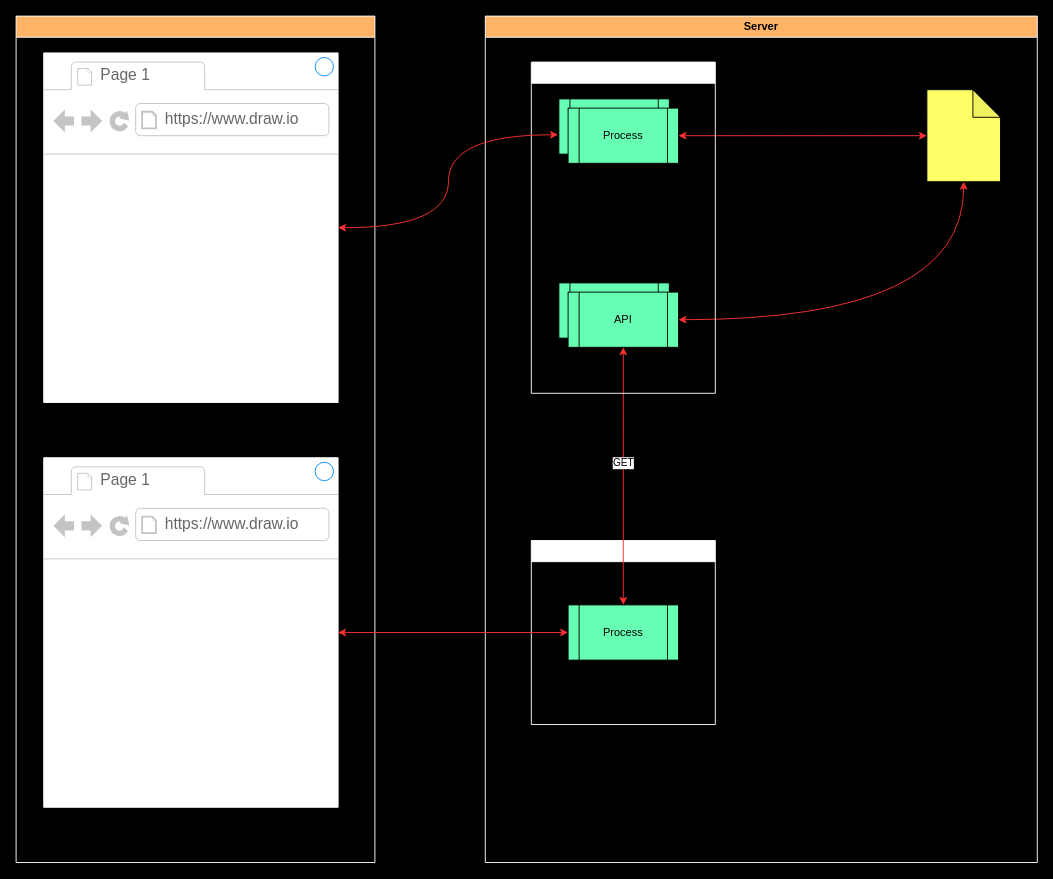
This 1053x879 diagram has some shape labels left out. The shapes that lost their labels are listed below. From the top down, each one's box as (x1, y1, x2, y2) in pixels, then its label:
(926, 89, 1000, 182): Data (JSON)
(530, 61, 715, 393): Actix-Web [Port=8000]
(15, 15, 375, 862): Client
(530, 540, 715, 724): Dioxus [Port=8080]
